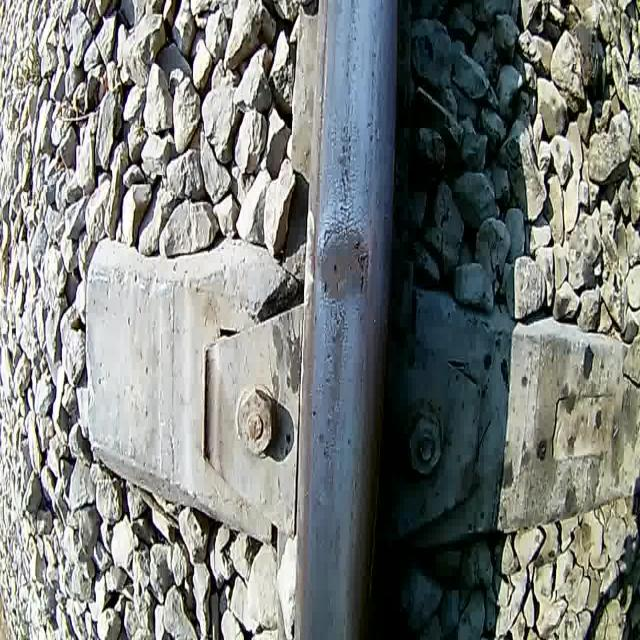Squats: (316, 223, 374, 309)
